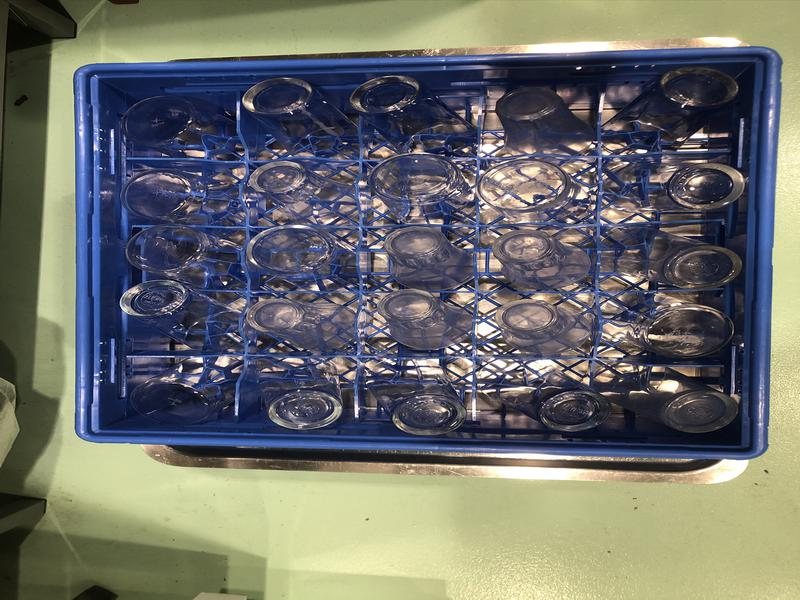Glass: (602, 66, 738, 151), (595, 359, 735, 434), (595, 222, 742, 293), (475, 362, 608, 438), (355, 72, 471, 155), (119, 280, 243, 352), (605, 295, 740, 360), (359, 359, 465, 439), (239, 77, 355, 150), (478, 159, 602, 227), (602, 156, 744, 215), (115, 96, 242, 159), (120, 230, 251, 288), (251, 355, 347, 432), (127, 355, 234, 423), (381, 227, 485, 295), (245, 227, 358, 288), (120, 171, 246, 225), (373, 152, 473, 220), (496, 86, 595, 154), (245, 159, 350, 221), (488, 231, 589, 295), (247, 296, 353, 351), (373, 294, 471, 348), (499, 298, 591, 353)
